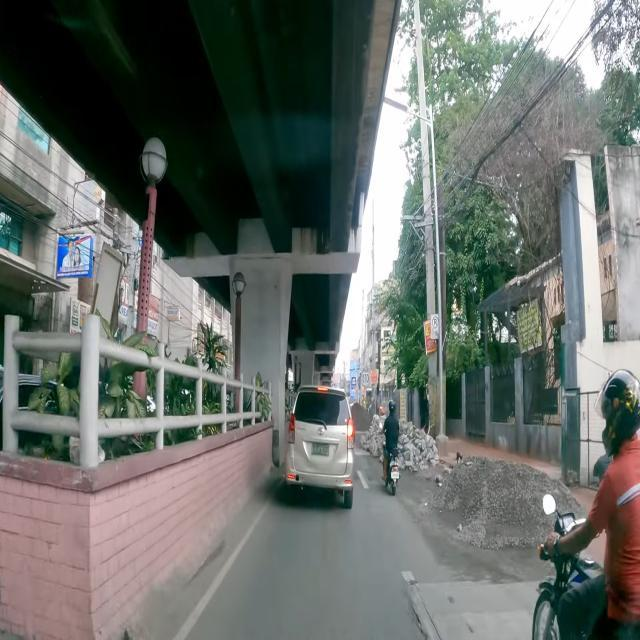car: (284, 385, 354, 508)
motorcycle: (530, 370, 640, 640), (378, 399, 401, 496)
